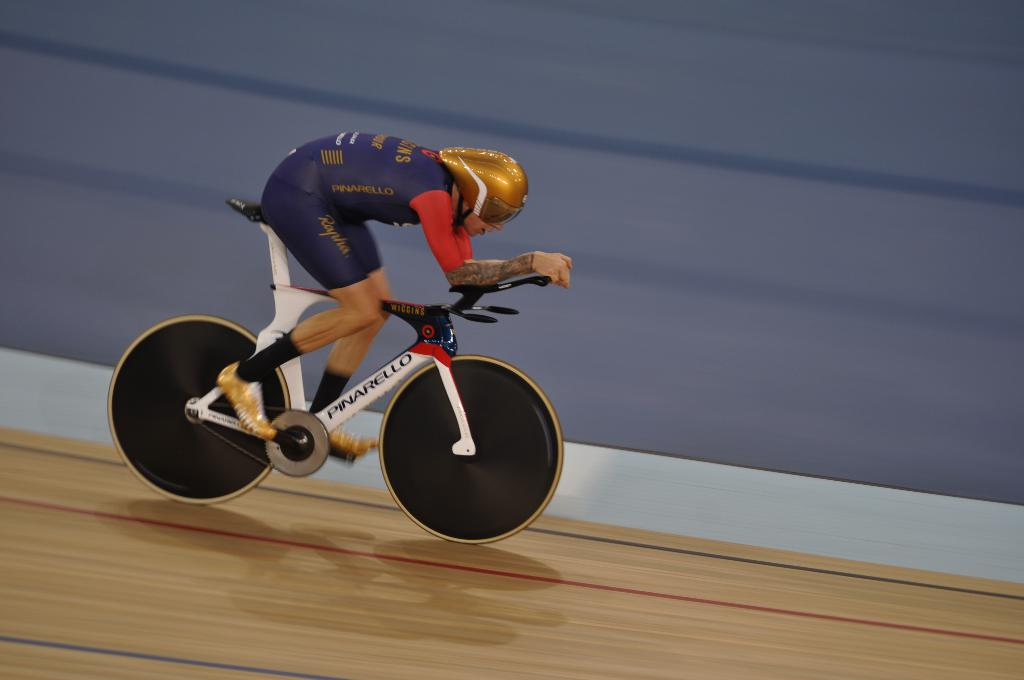Bike_away: (107, 191, 575, 550)
